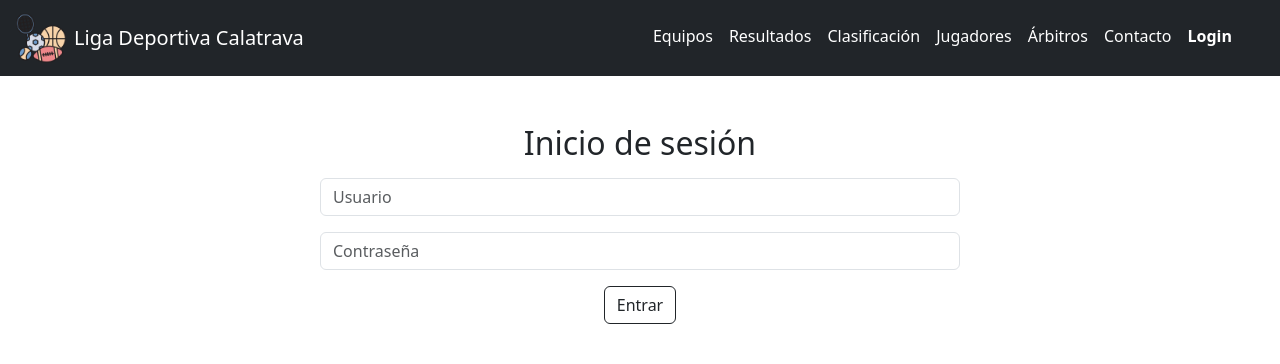
Test: Pruebas E2E de Login (Simuladas para CI) › Caso 1: muestra error con credenciales incorrectas
The image size is (1280, 364).
Type "usuario_falso" into the field named "usuario" at (640, 197), box x1=320 y1=178 x2=960 y2=216
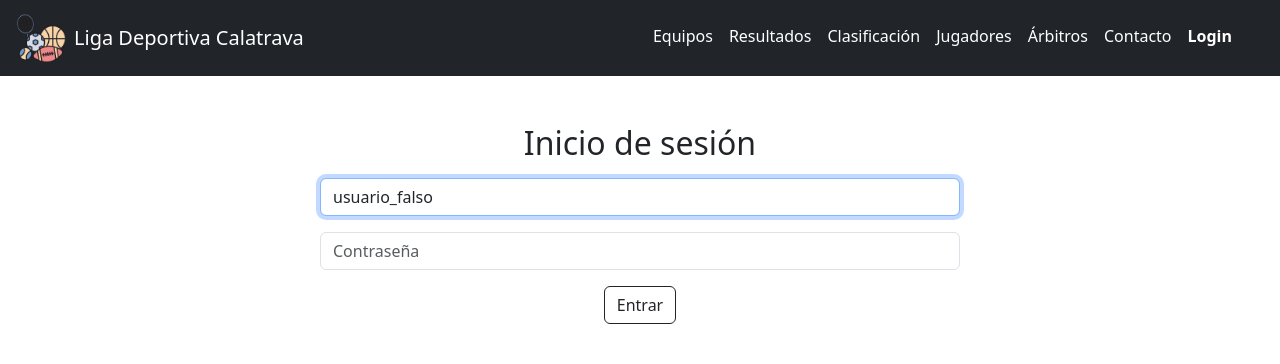
Type "password_incorrecta" into the password field named "password" at (640, 251), box x1=320 y1=232 x2=960 y2=270
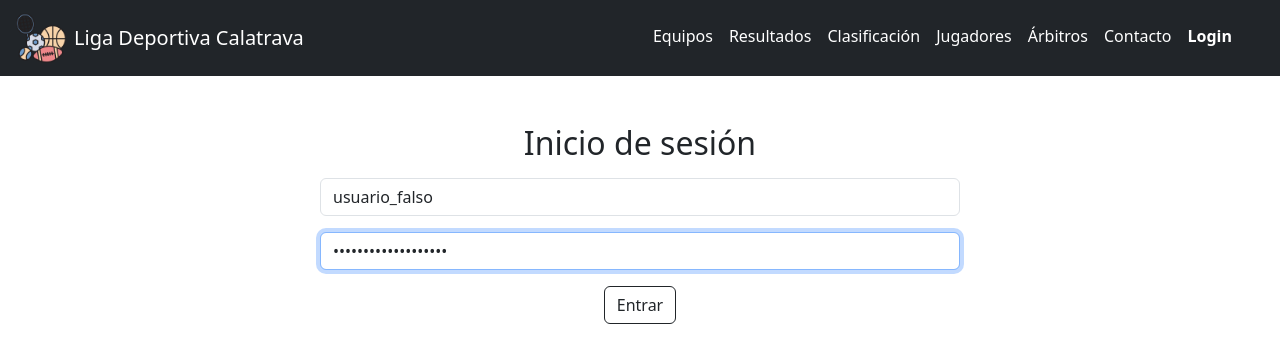
Click the submit button at (640, 305), box x1=604 y1=286 x2=676 y2=324
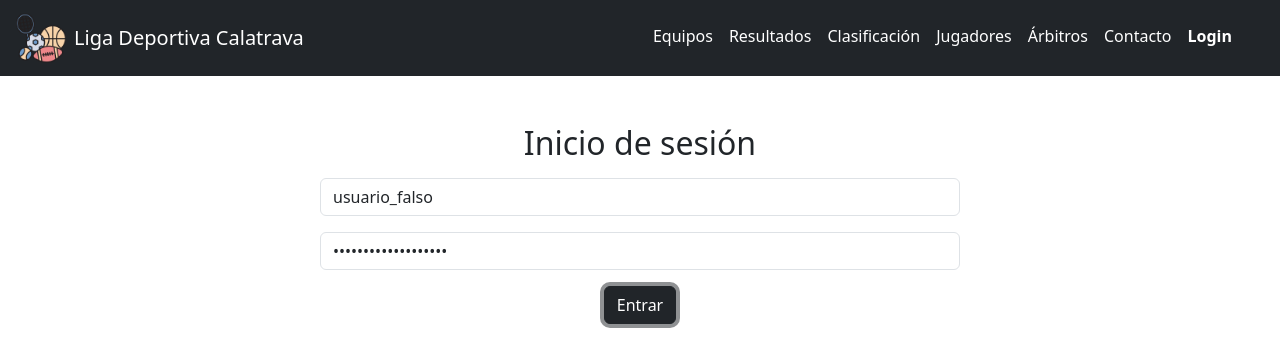
// Usamos force: true para asegurar que el botón responda aunque haya cargado el error
Click the submit button at (640, 305), box x1=604 y1=286 x2=676 y2=324
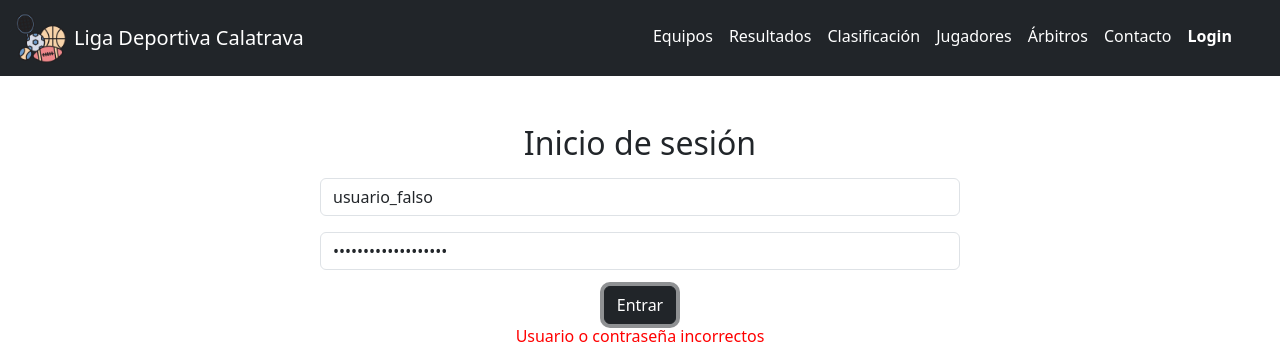
Expected: the text "incorrectos" is shown, x1=516 y1=325 x2=765 y2=347
